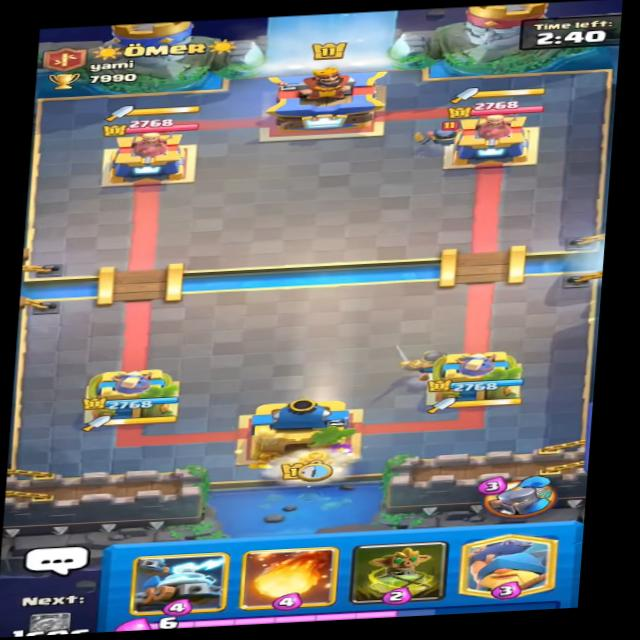mini-pekka: (411, 120, 462, 151)
